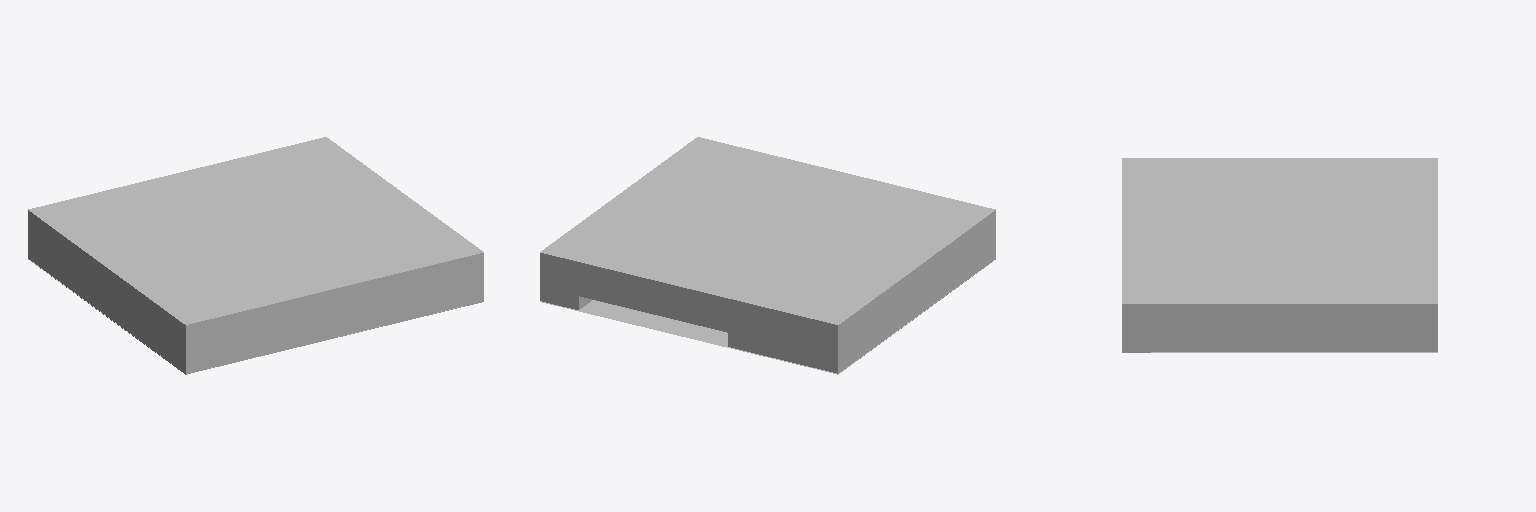
File: room.obj
3 renders of one model, left to right at view 1: azimuth 30°, elevation 25°; view 2: azimuth 150°, elevation 25°; view 3: azimuth 270°, elevation 25°, orthographic.
Bounding box in the file's own units: 26137 × 4173 × 23945.